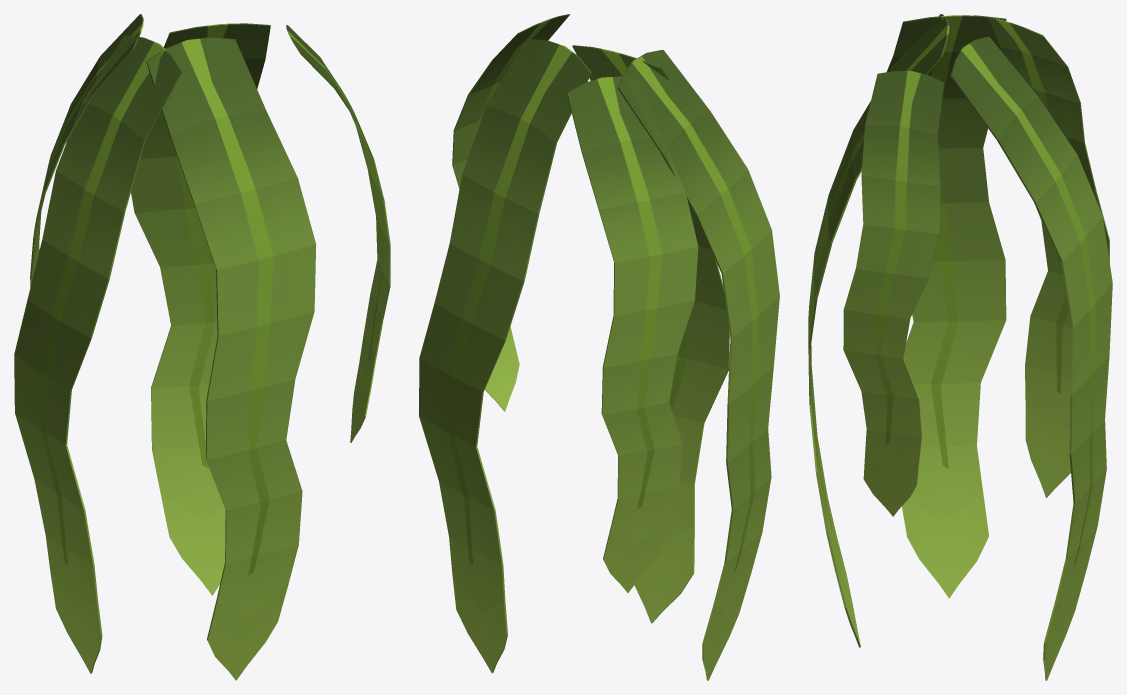
The model's file is Kelp Rev.glb.
3 views of the same model, side by side, from view 1: azimuth 30°, elevation 25°; view 2: azimuth 150°, elevation 25°; view 3: azimuth 270°, elevation 25° (orthographic). The views are drawn at different scales.
Visible parts, largest first — view 1: Plane.005; view 2: Plane.005; view 3: Plane.005.
Part boxes in pixels (x1=…): Plane.005: x1=14, y1=14, x2=390, y2=680; Plane.005: x1=419, y1=14, x2=779, y2=680; Plane.005: x1=808, y1=14, x2=1112, y2=680.
Size of the model in its own units: 1.94 by 3.58 by 1.6.
Materials: 1 (1 with a texture image).
